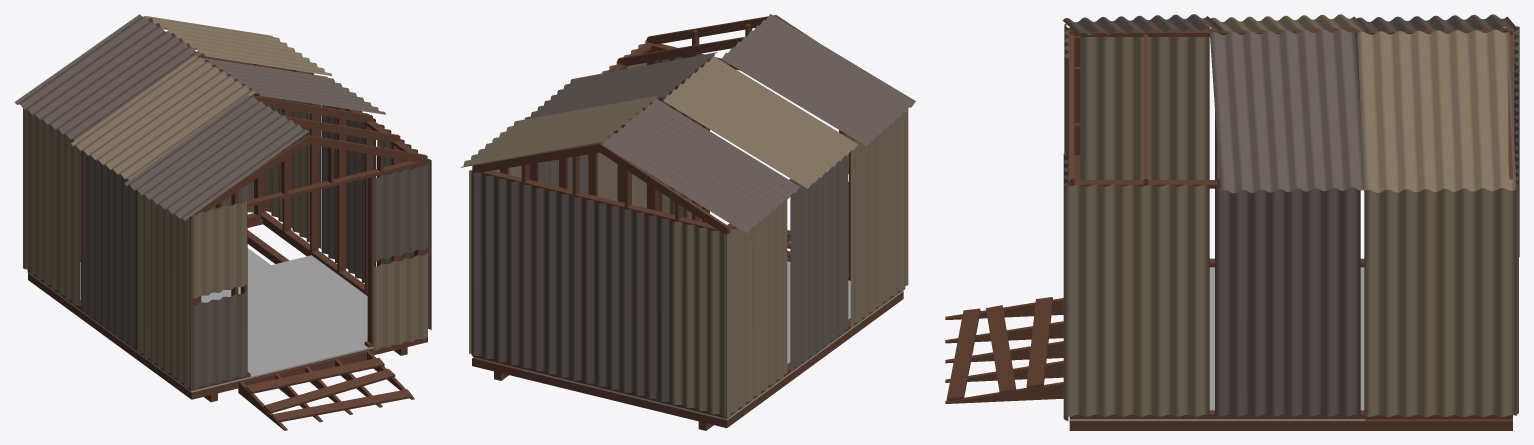
Rendered from maison_3.fbx.
The picture shows the model from 3 angles, left to right: view 1: azimuth 30°, elevation 25°; view 2: azimuth 150°, elevation 25°; view 3: azimuth 270°, elevation 25°; orthographic projection. The views are drawn at different scales.
Parts seen in each view (by area): view 1: maison_3; view 2: maison_3; view 3: maison_3.
Boxes of the visible parts, left/top/right/bottom form: maison_3: left=14, top=14, right=431, bottom=430; maison_3: left=461, top=14, right=915, bottom=430; maison_3: left=945, top=14, right=1519, bottom=430.
Size of the model in its own units: 2.75 by 2.44 by 3.79.
